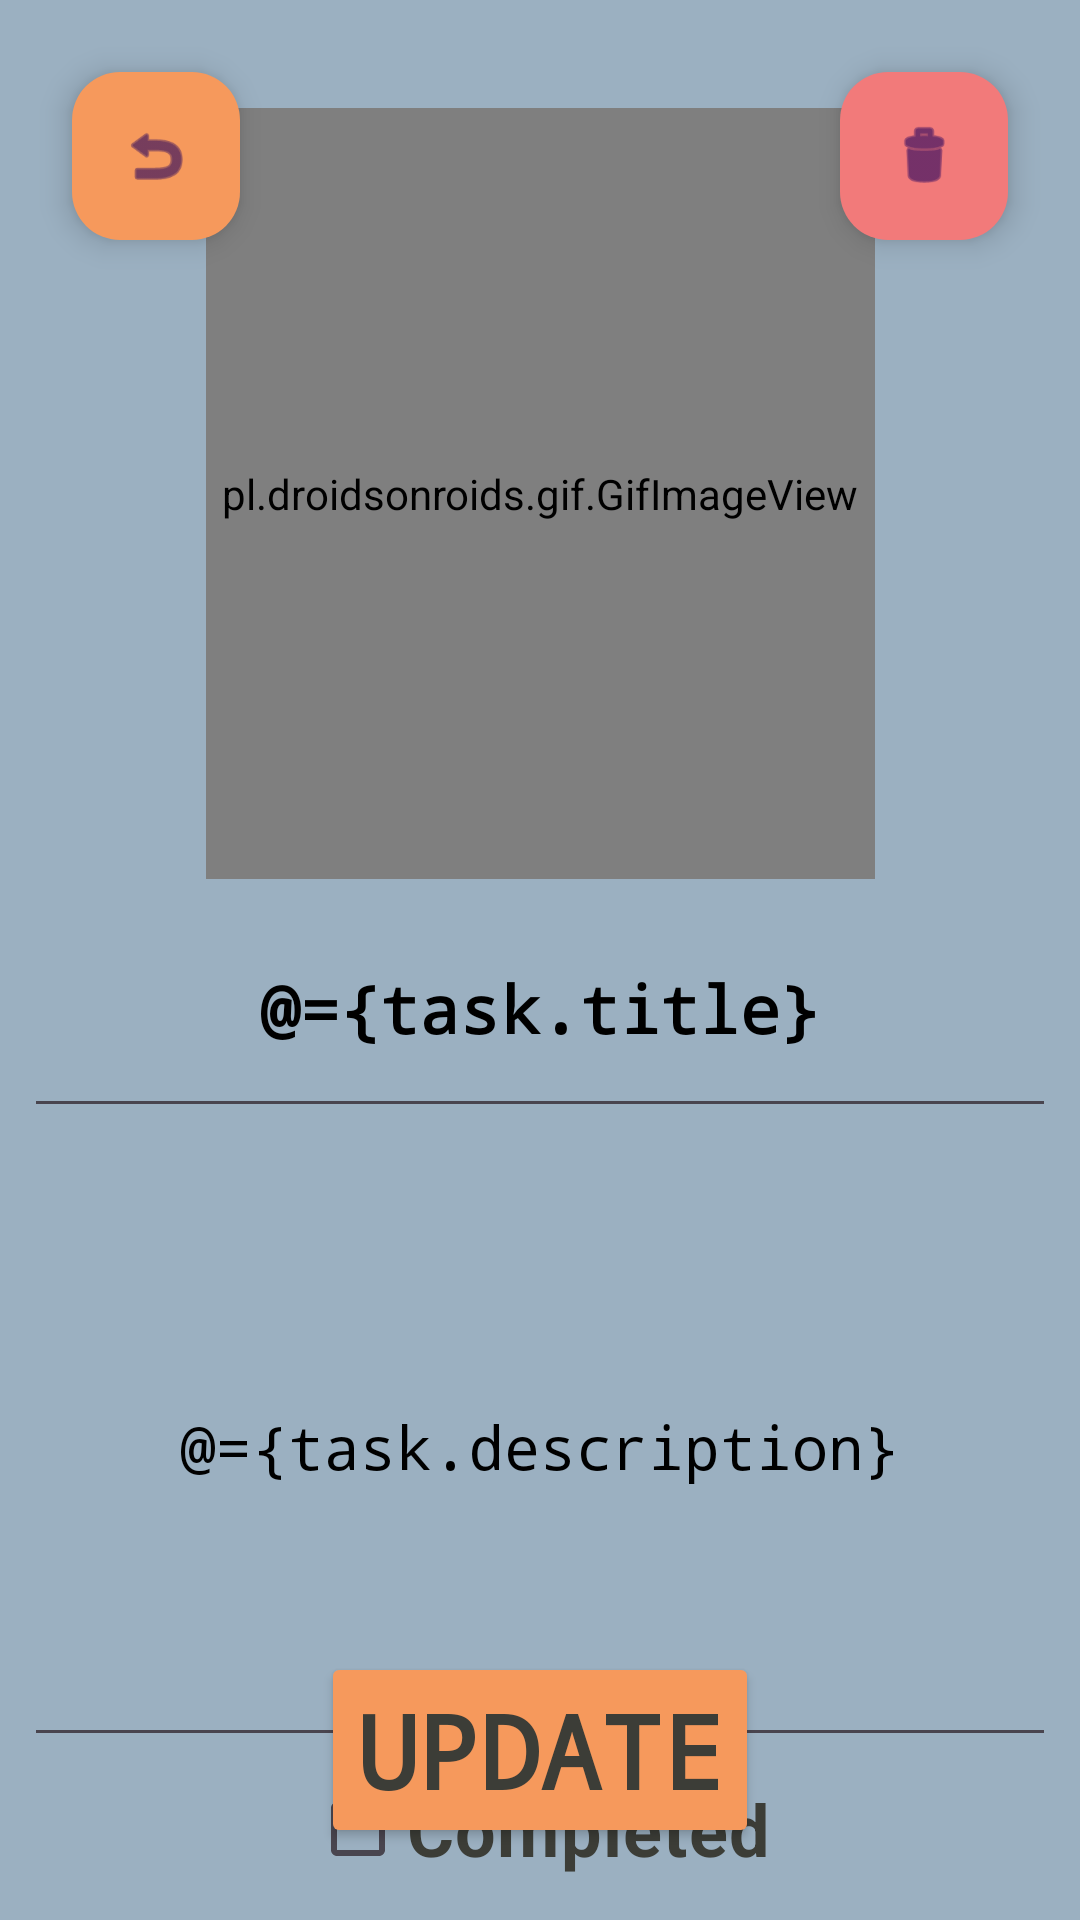

Icons on this 1080×1920 Android screen, each with the point to tap as point (x, y):
delete: point (924, 156)
revert: point (156, 156)
